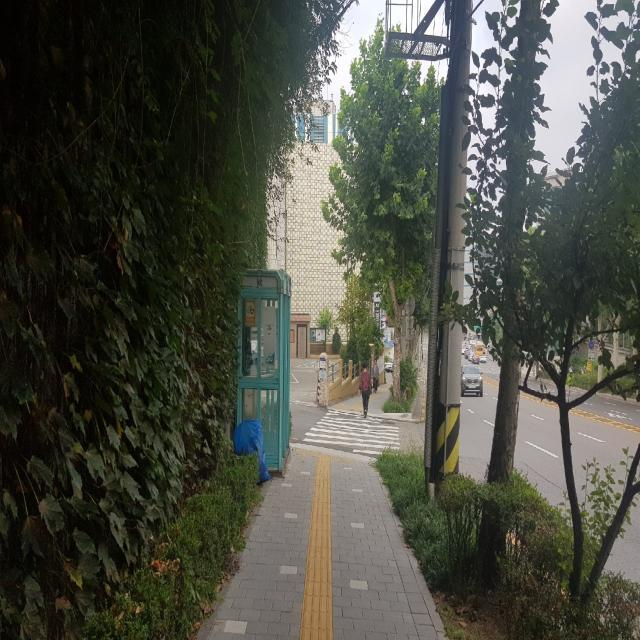횡단보도: (302, 409, 401, 456)
